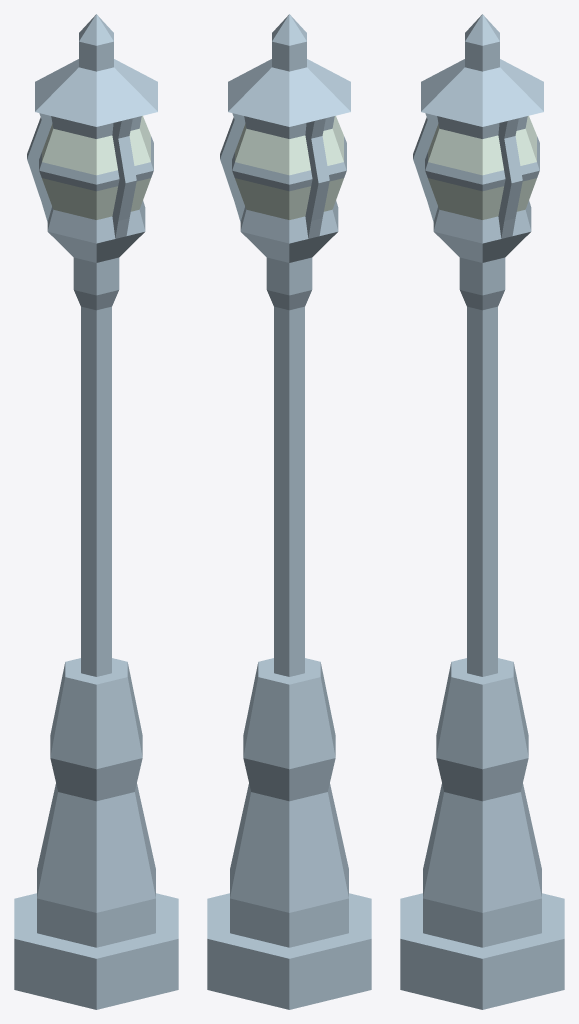
File: streetlight_10.fbx
3 views of the same model, side by side, from view 1: azimuth 30°, elevation 25°; view 2: azimuth 150°, elevation 25°; view 3: azimuth 270°, elevation 25° (orthographic).
Visible parts, largest first — view 1: streetlight_10, polySurface30; view 2: streetlight_10, polySurface30; view 3: streetlight_10, polySurface30.
Part boxes in pixels (x1,y1,x2,y2): streetlight_10: [14, 14, 178, 1009]; polySurface30: [27, 113, 136, 238]; streetlight_10: [207, 14, 371, 1009]; polySurface30: [220, 113, 329, 238]; streetlight_10: [400, 14, 564, 1009]; polySurface30: [413, 113, 522, 238].
Size of the model in its own units: 1.16 by 6.45 by 1.
